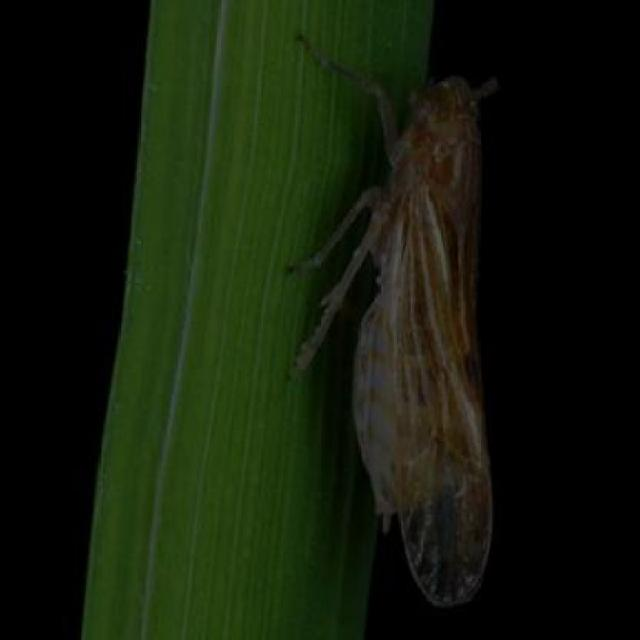brown-planthopper: (348, 56, 495, 607)
